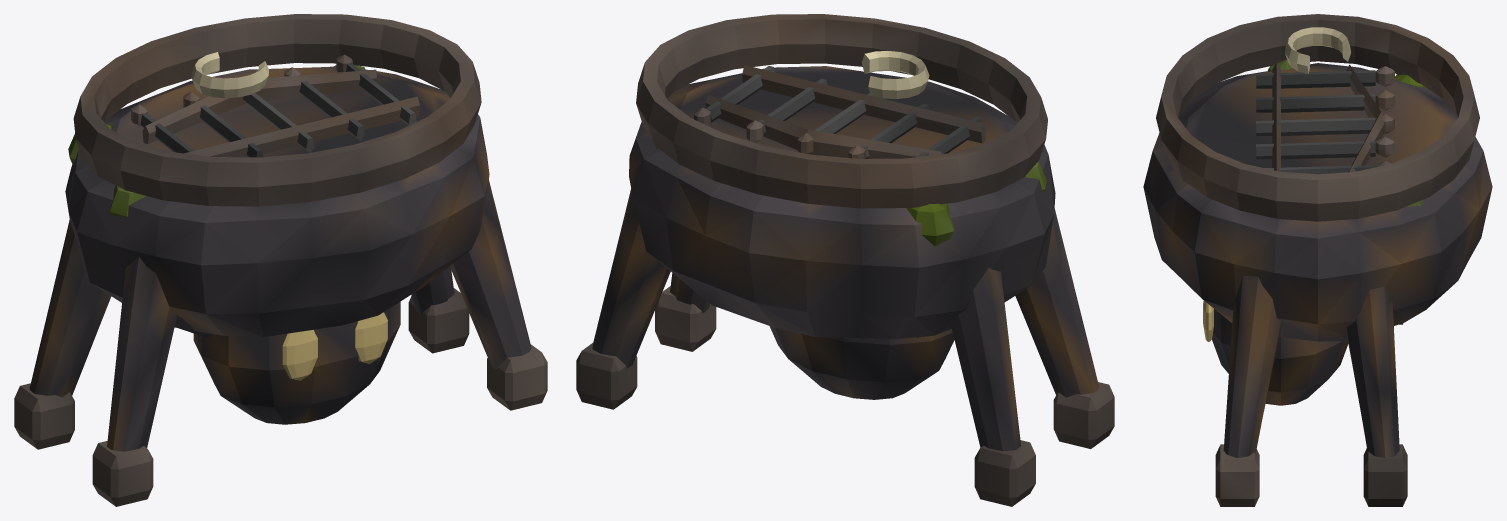
The model's file is coin_crawler.fbx.
The picture shows the model from 3 angles, left to right: view 1: azimuth 30°, elevation 25°; view 2: azimuth 150°, elevation 25°; view 3: azimuth 270°, elevation 25°; orthographic projection. The views are drawn at different scales.
Visible parts, largest first — view 1: coin_crawler; view 2: coin_crawler; view 3: coin_crawler.
Part boxes in pixels (box(x1,y1,x2,y2)): coin_crawler: box(14, 14, 547, 506); coin_crawler: box(576, 14, 1114, 506); coin_crawler: box(1143, 14, 1492, 506).
Size of the model in its own units: 5.2 by 4.14 by 3.8.
